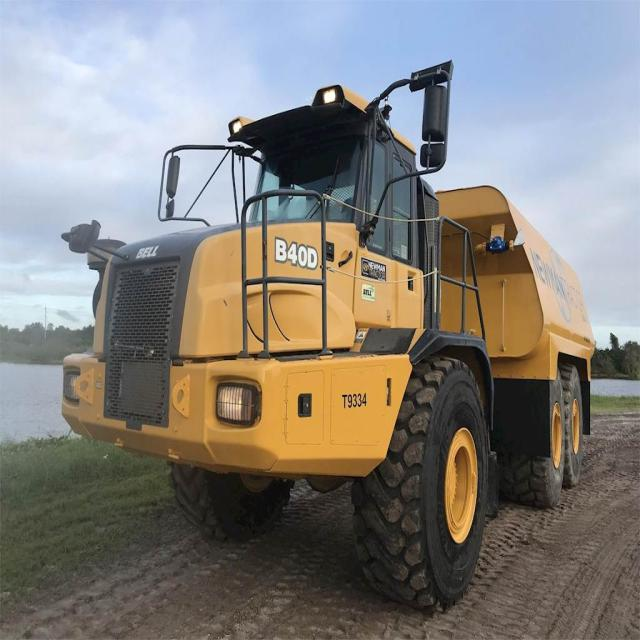dump_truck: (46, 66, 606, 612)
